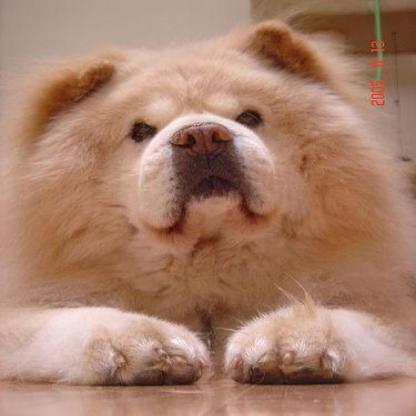chow: (0, 18, 412, 388)
